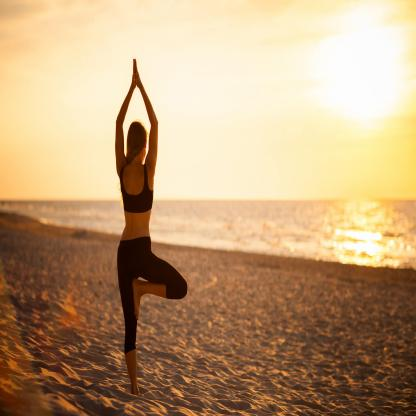tree: (108, 50, 195, 403)
